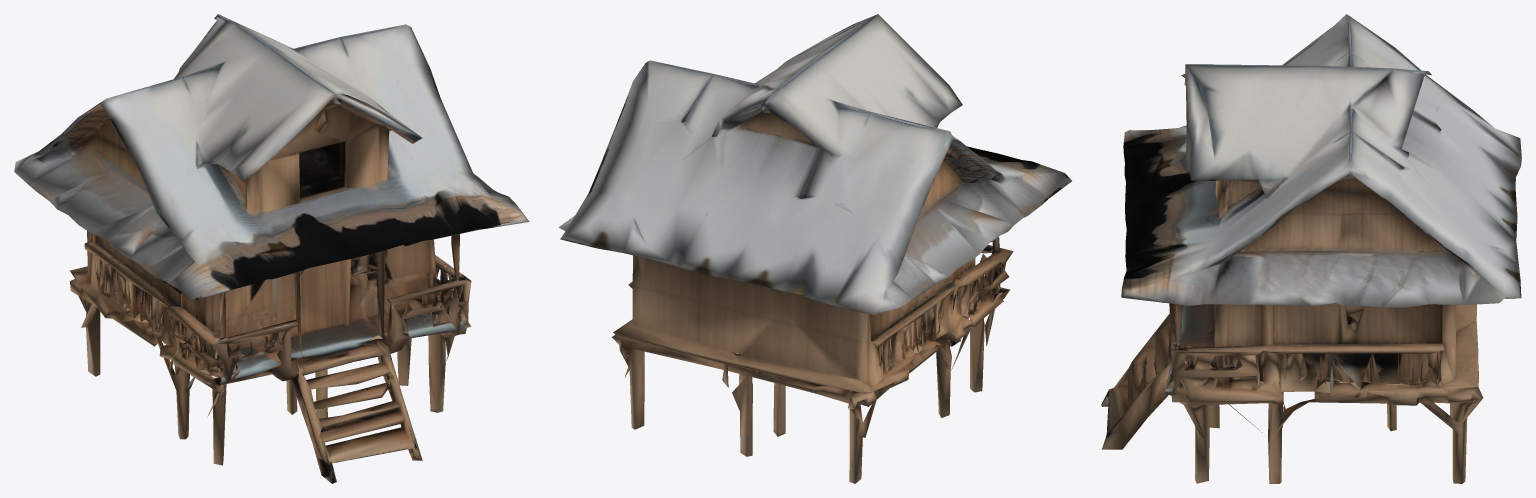
Rendered from StiltHouse.glb.
3 renders of one model, left to right at view 1: azimuth 30°, elevation 25°; view 2: azimuth 150°, elevation 25°; view 3: azimuth 270°, elevation 25°, orthographic. The views are drawn at different scales.
Size of the model in its own units: 2 by 1.92 by 2.
1 material, 1 textured.
